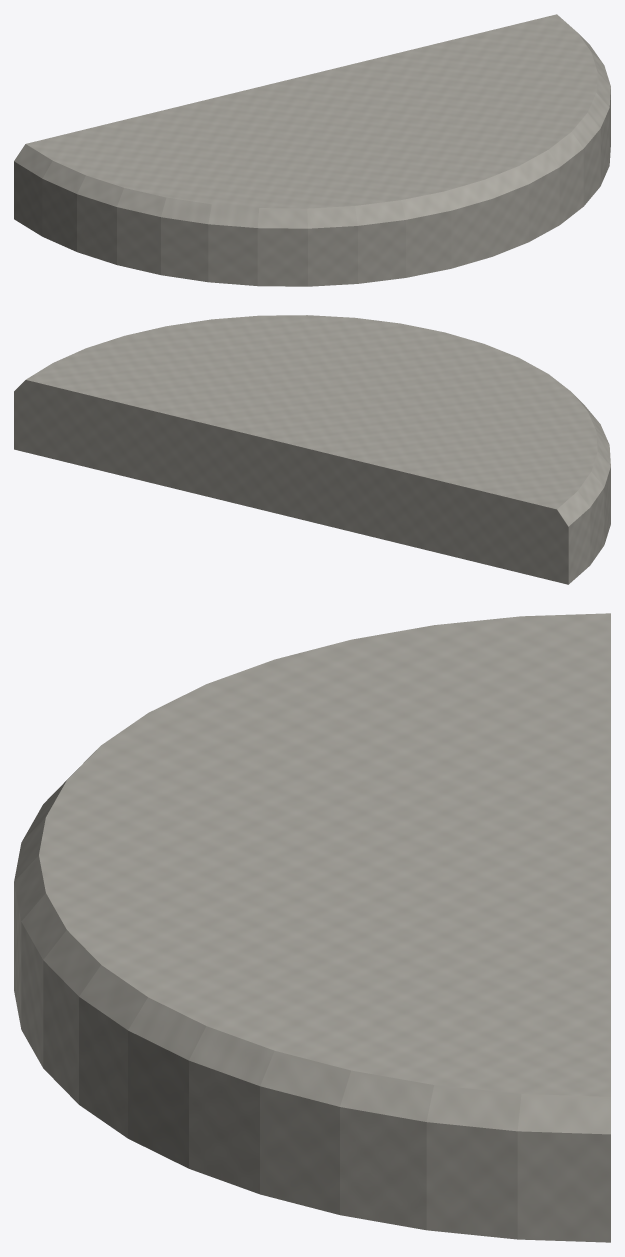
File: MPS_Island_EndCap_1p2m.fbx
3 renders of one model, top to bottom at view 1: azimuth 30°, elevation 25°; view 2: azimuth 150°, elevation 25°; view 3: azimuth 270°, elevation 25°, orthographic. The views are drawn at different scales.
Visible parts, largest first — view 1: Body; view 2: Body; view 3: Body.
Boxes of the visible parts, left/top/right/bottom form: Body: left=14, top=14, right=610, bottom=286; Body: left=14, top=315, right=610, bottom=584; Body: left=14, top=613, right=610, bottom=1242.
Bounding box in the file's own units: 1.2 × 0.15 × 0.6.
